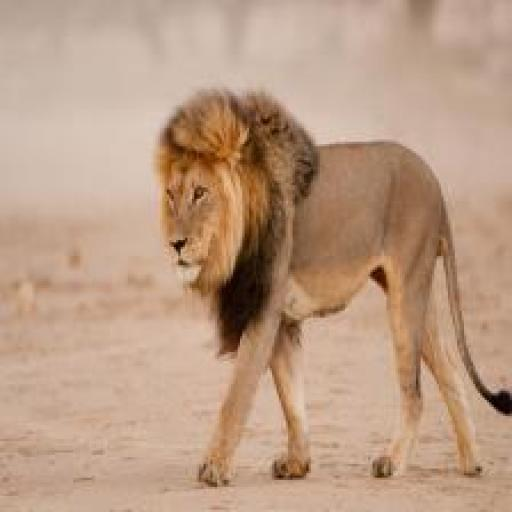lion: (155, 85, 512, 488)
